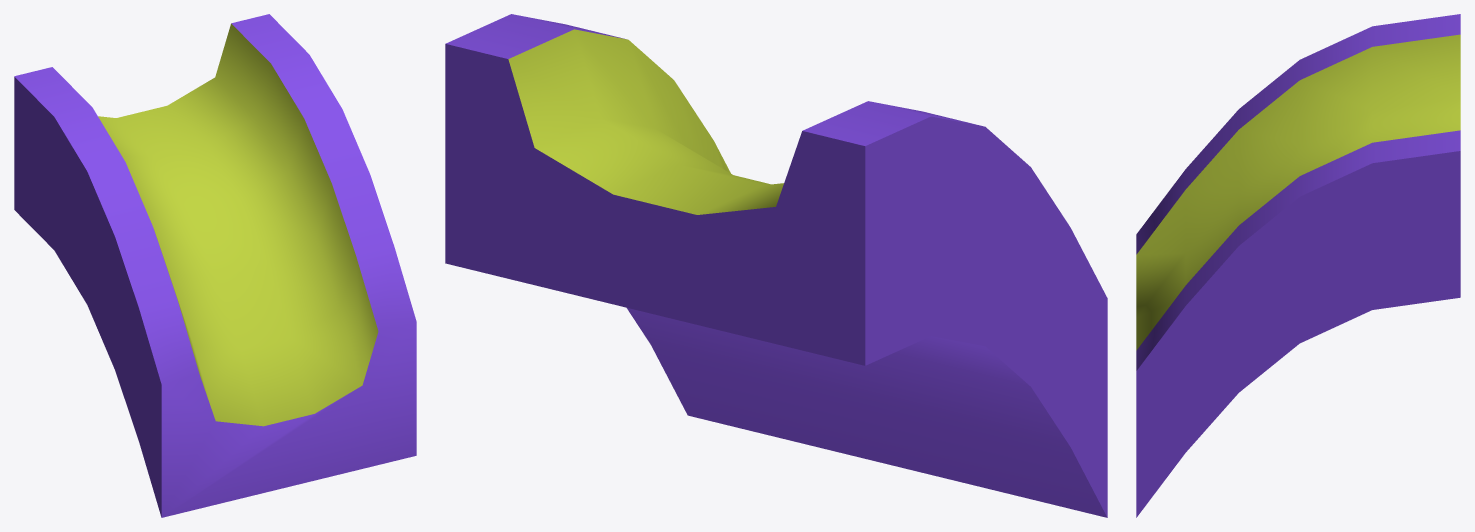
The model's file is rampEnd_D-col.dae.
3 renders of one model, left to right at view 1: azimuth 30°, elevation 25°; view 2: azimuth 150°, elevation 25°; view 3: azimuth 270°, elevation 25°, orthographic. The views are drawn at different scales.
Visible parts, largest first — view 1: rampEnd_D-col; view 2: rampEnd_D-col; view 3: rampEnd_D-col.
Boxes of the visible parts, bbox=[...] form: rampEnd_D-col: bbox=[14, 14, 416, 517]; rampEnd_D-col: bbox=[445, 14, 1107, 517]; rampEnd_D-col: bbox=[1136, 14, 1460, 517].
Size of the model in its own units: 1 by 1 by 1.25.
